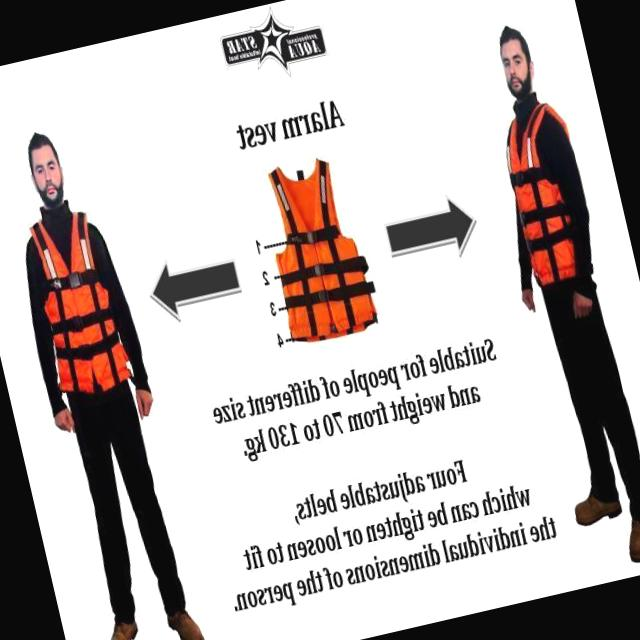boots: (76, 571, 227, 640), (547, 473, 640, 579)
no-gloves: (22, 370, 106, 454), (105, 358, 173, 430), (494, 254, 556, 317), (552, 268, 614, 328)
no-helmet: (468, 20, 550, 116), (1, 122, 74, 224)
vest: (242, 148, 384, 354), (15, 204, 140, 404), (486, 96, 598, 294)
